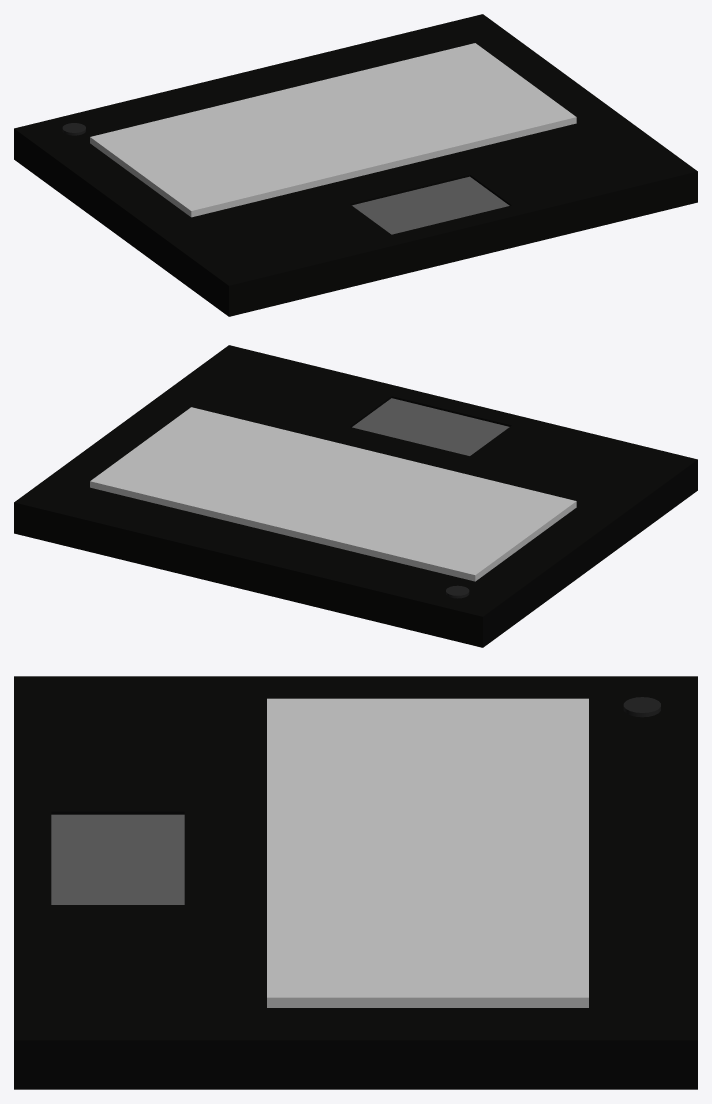
The model's file is Itr_Obj_Laptop_Board_01.FBX.
3 renders of one model, top to bottom at view 1: azimuth 30°, elevation 25°; view 2: azimuth 150°, elevation 25°; view 3: azimuth 270°, elevation 25°, orthographic. The views are drawn at different scales.
Visible parts, largest first — view 1: Itr_Obj_Laptop_Board_01; view 2: Itr_Obj_Laptop_Board_01; view 3: Itr_Obj_Laptop_Board_01.
Boxes of the visible parts, x1=… form: Itr_Obj_Laptop_Board_01: x1=14, y1=14, x2=697, y2=316; Itr_Obj_Laptop_Board_01: x1=14, y1=345, x2=697, y2=647; Itr_Obj_Laptop_Board_01: x1=14, y1=676, x2=697, y2=1089.
Size of the model in its own units: 29.1 by 2.22 by 23.12.
